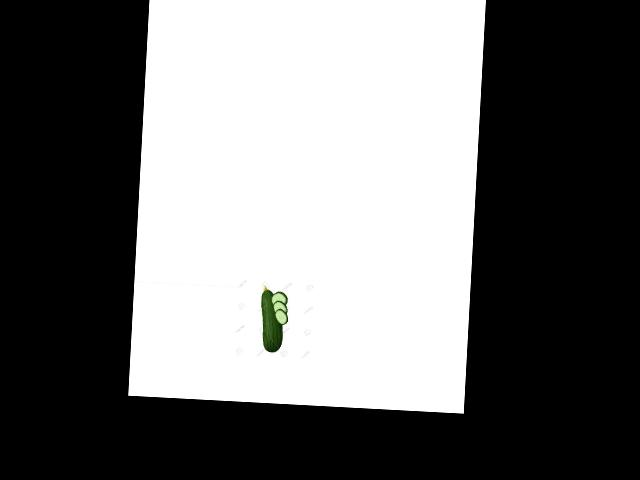cucumber: (258, 286, 285, 353)
